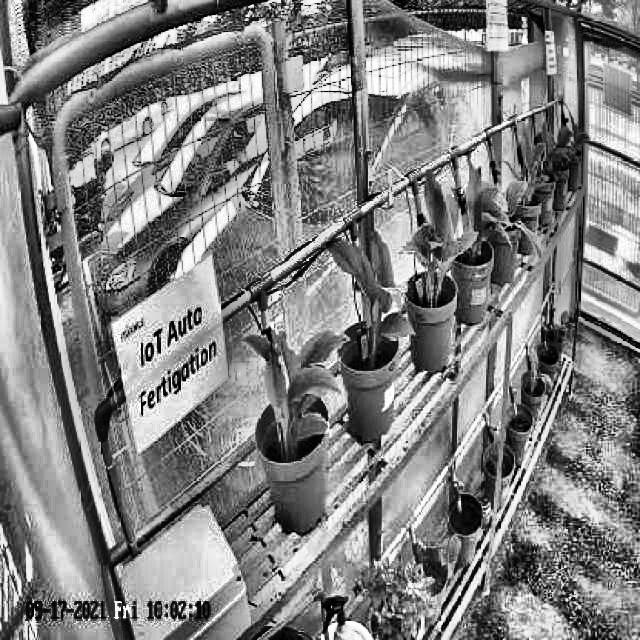plants: (242, 328, 350, 463), (330, 228, 415, 366), (398, 168, 478, 308), (467, 158, 513, 264)
